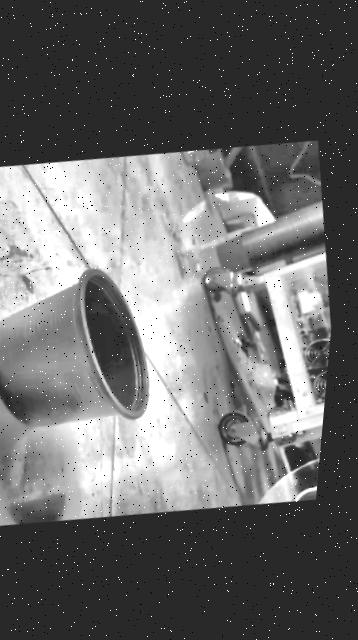pot: (0, 253, 163, 442)
